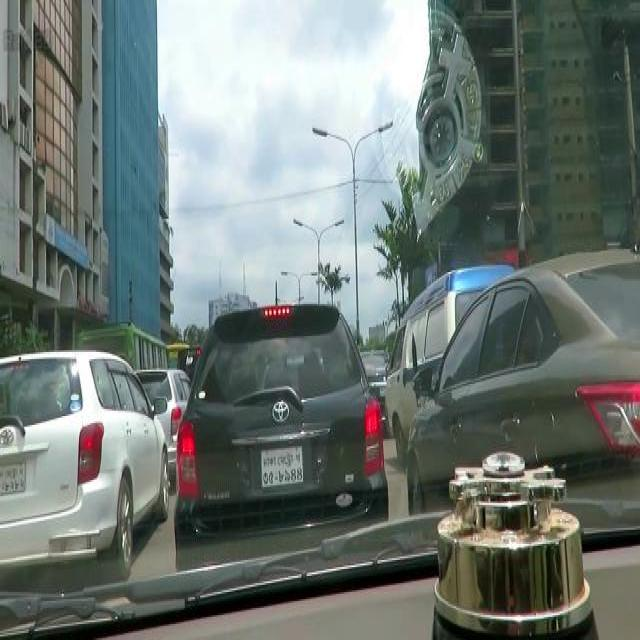19: (372, 262, 510, 467)
5: (402, 243, 638, 525), (171, 297, 389, 574), (0, 340, 171, 594), (133, 362, 194, 495)
Truck: (77, 324, 171, 374)
